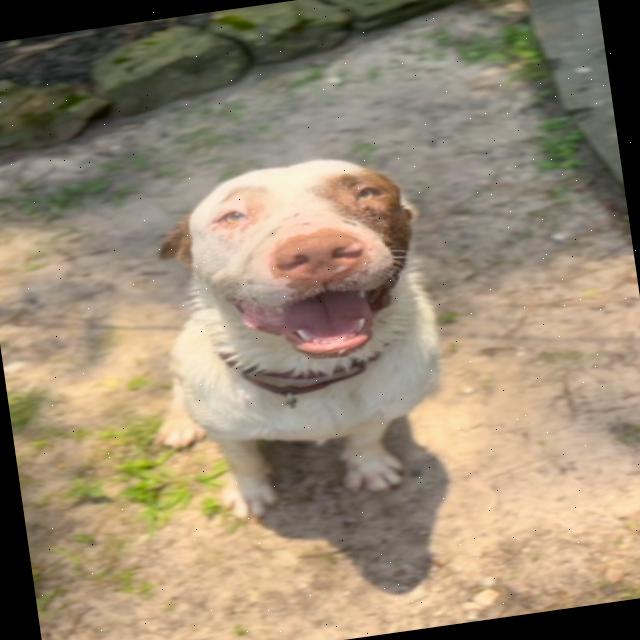labrador_retriever_dog: (131, 136, 463, 402)
